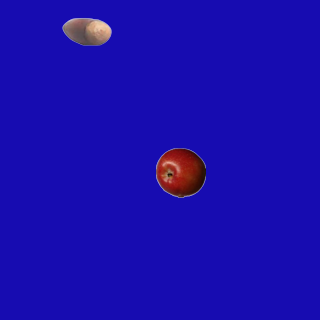Apple Braeburn: (155, 147, 205, 197)
Hazelnut: (61, 6, 111, 56)
